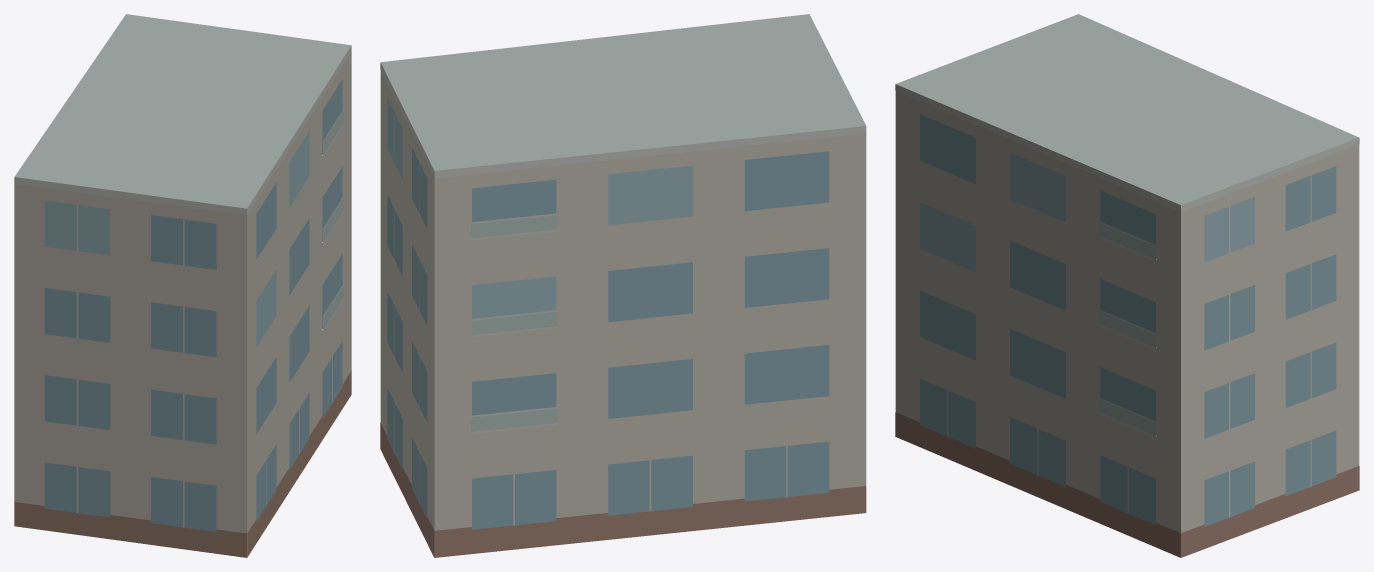
Rendered from survey-upis-32955374.glb.
The picture shows the model from 3 angles, left to right: view 1: azimuth 30°, elevation 25°; view 2: azimuth 150°, elevation 25°; view 3: azimuth 270°, elevation 25°; orthographic projection. The views are drawn at different scales.
Visible parts, largest first — view 1: survey-upis-32955374.tmp; view 2: survey-upis-32955374.tmp; view 3: survey-upis-32955374.tmp.
Boxes of the visible parts, x1,y1,x2,y2 form: survey-upis-32955374.tmp: (14,14,351,557); survey-upis-32955374.tmp: (380,14,866,557); survey-upis-32955374.tmp: (895,14,1359,557).
Bounding box in the file's own units: 14.89 × 12.8 × 15.27.
